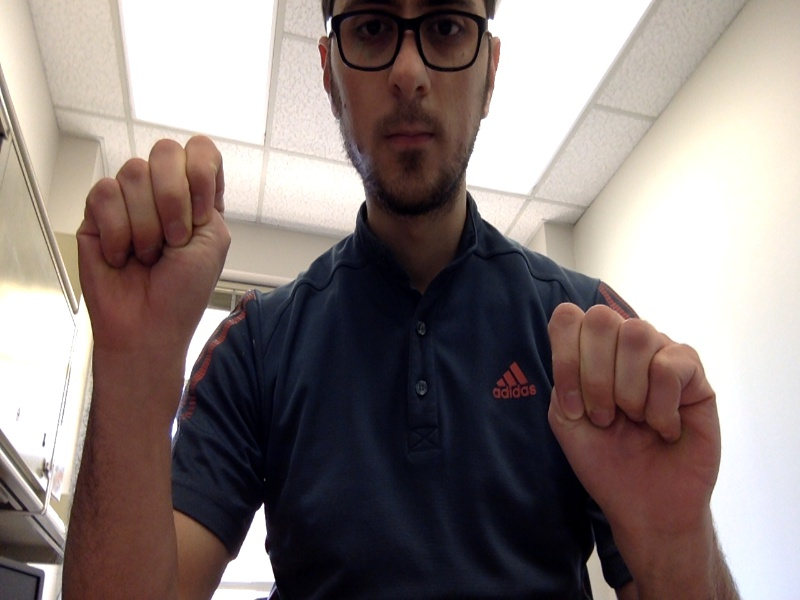0-hand: (548, 302, 721, 520), (77, 135, 229, 347)
